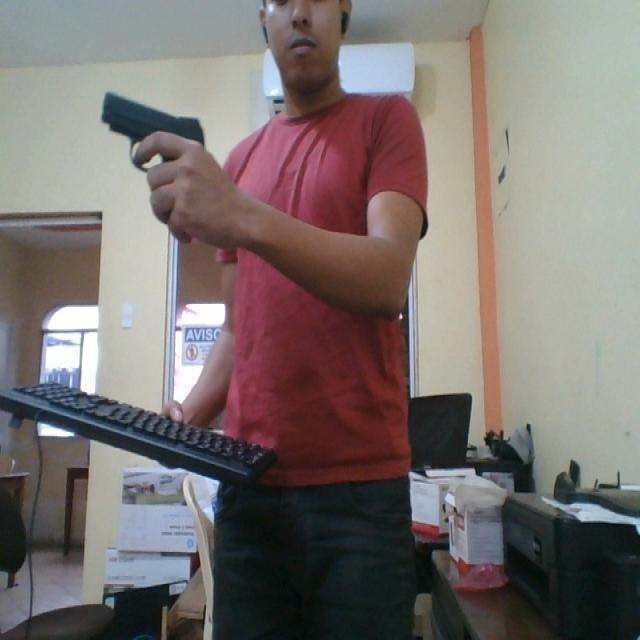weapon: (98, 86, 210, 180)
